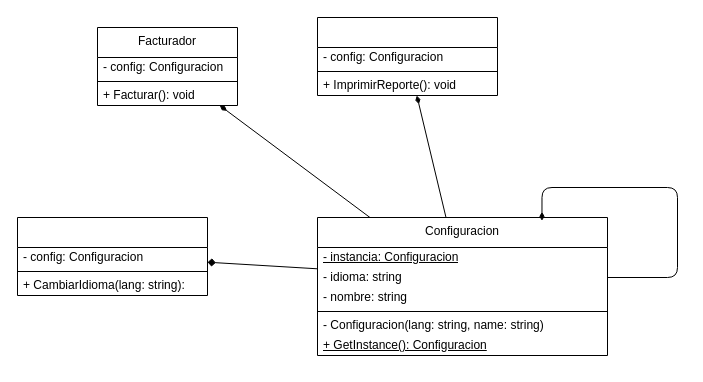
Some shapes in this 703 by 382 pixel diagram are drawn without their labels. Here are the shapes that lost their labels. From the top down, the box of each, then its label:
(316, 16, 498, 96): ReporteManager
(16, 216, 208, 296): OpcionesManager
